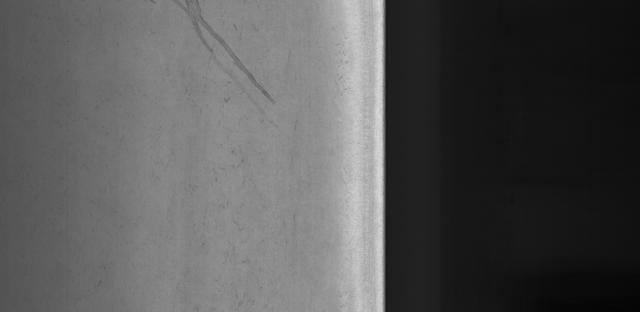water_spot: (164, 1, 283, 130)
